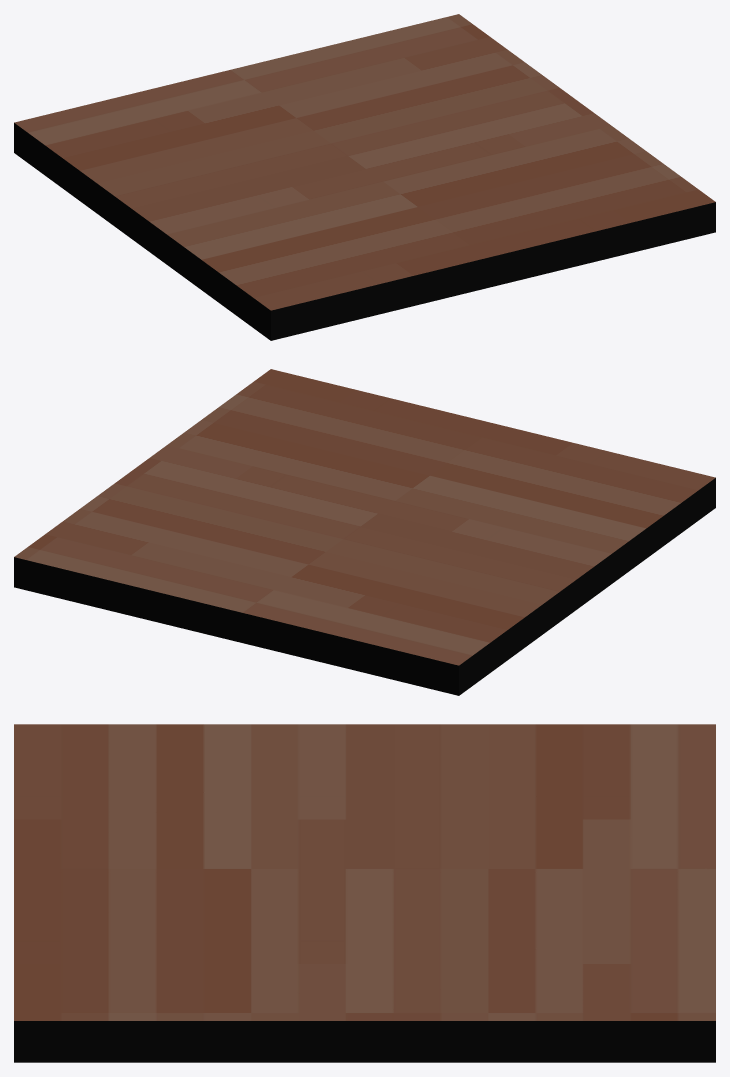
Rendered from floor.glb.
3 views of the same model, one above another, from view 1: azimuth 30°, elevation 25°; view 2: azimuth 150°, elevation 25°; view 3: azimuth 270°, elevation 25° (orthographic). The views are drawn at different scales.
Visible parts, largest first — view 1: FloorMesh; view 2: FloorMesh; view 3: FloorMesh.
Boxes of the visible parts, <box> form: FloorMesh: <box>14,14,715,340</box>; FloorMesh: <box>14,369,715,695</box>; FloorMesh: <box>14,724,715,1062</box>.
Size of the model in its own units: 9.41 by 0.6119 by 9.41.
Materials: 2 (1 with a texture image).
